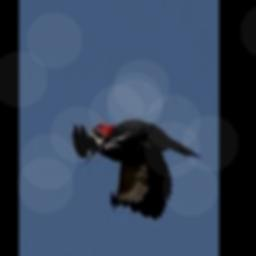Woodpecker: (73, 118, 201, 220)
